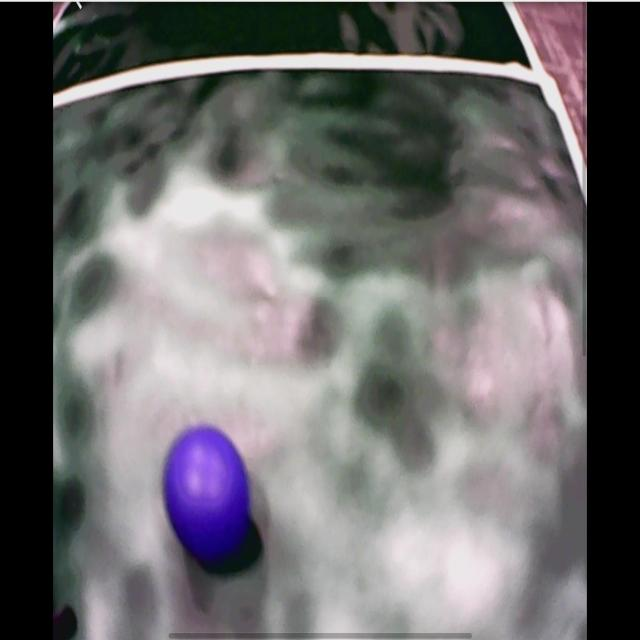ball: (164, 428, 250, 559)
